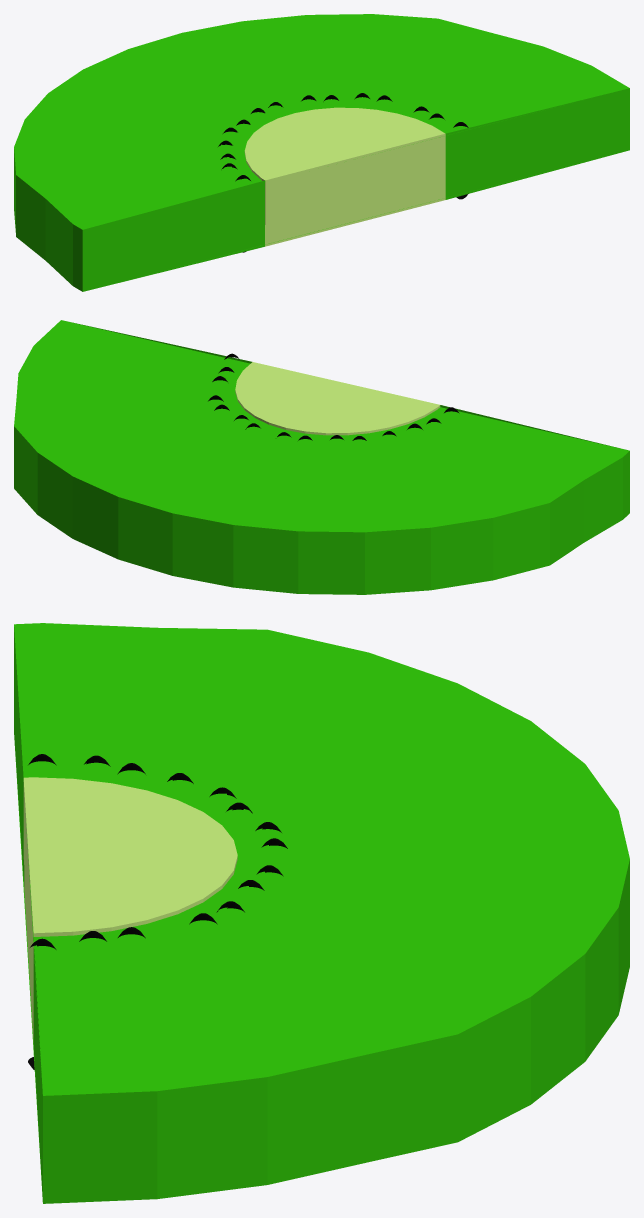
File: kiwi_slice_2.glb
3 renders of one model, top to bottom at view 1: azimuth 30°, elevation 25°; view 2: azimuth 150°, elevation 25°; view 3: azimuth 270°, elevation 25°, orthographic. The views are drawn at different scales.
Visible parts, largest first — view 1: Cylinder.002; view 2: Cylinder.002; view 3: Cylinder.002.
Part boxes in pixels (x1=…): Cylinder.002: x1=14, y1=14, x2=629, y2=291; Cylinder.002: x1=14, y1=320, x2=629, y2=594; Cylinder.002: x1=14, y1=623, x2=629, y2=1203.
Bounding box in the file's own units: 1.91 × 0.2503 × 1.05.
